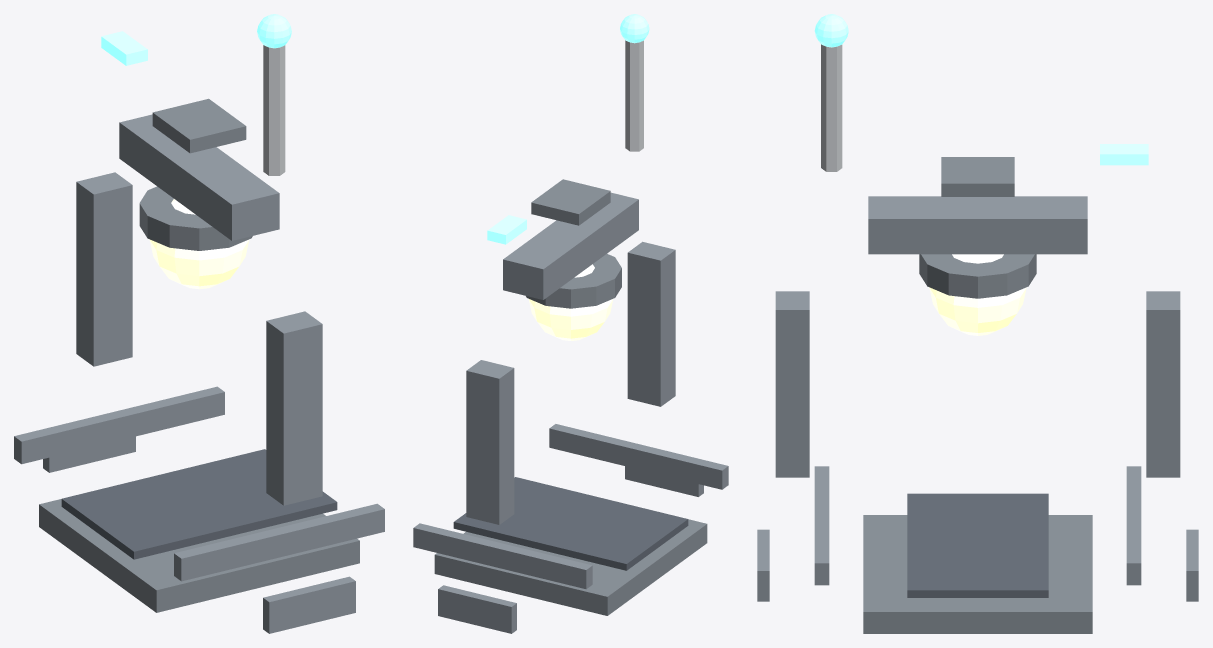
File: sorter.glb
The picture shows the model from 3 angles, left to right: view 1: azimuth 30°, elevation 25°; view 2: azimuth 150°, elevation 25°; view 3: azimuth 270°, elevation 25°; orthographic projection. The views are drawn at different scales.
Visible parts, largest first — view 1: lane, base, post_r, post_l, beam, rail_l, rail_r, skirt_r, eye_rim, beam_cap, eye, antenna (+3 smaller); view 2: lane, base, post_l, post_r, beam, rail_r, rail_l, skirt_l, eye_rim, beam_cap, eye, antenna (+3 smaller); view 3: base, lane, beam, post_l, post_r, eye_rim, eye, beam_cap, antenna, rail_l, rail_r, status (+3 smaller).
Boxes of the visible parts, bbox=[...] form: lane: bbox=[61, 449, 337, 559]; base: bbox=[39, 499, 359, 612]; post_r: bbox=[266, 311, 322, 505]; post_l: bbox=[76, 172, 132, 366]; beam: bbox=[119, 114, 279, 240]; rail_l: bbox=[14, 386, 224, 464]; rail_r: bbox=[174, 503, 384, 581]; skirt_r: bbox=[263, 576, 355, 633]; eye_rim: bbox=[139, 186, 252, 250]; beam_cap: bbox=[152, 98, 246, 153]; eye: bbox=[149, 199, 249, 289]; antenna: bbox=[263, 45, 285, 175]; lane: bbox=[453, 477, 688, 570]; base: bbox=[434, 519, 707, 615]; post_l: bbox=[466, 360, 514, 524]; post_r: bbox=[627, 241, 675, 406]; beam: bbox=[503, 192, 638, 299]; rail_r: bbox=[549, 424, 728, 489]; rail_l: bbox=[413, 523, 592, 589]; skirt_l: bbox=[438, 585, 516, 633]; eye_rim: bbox=[526, 254, 621, 308]; beam_cap: bbox=[531, 179, 610, 225]; eye: bbox=[528, 264, 613, 340]; antenna: bbox=[625, 40, 643, 151]; base: bbox=[863, 515, 1092, 633]; lane: bbox=[907, 493, 1048, 597]; beam: bbox=[868, 196, 1087, 254]; post_l: bbox=[1146, 291, 1180, 477]; post_r: bbox=[775, 291, 809, 477]; eye_rim: bbox=[919, 254, 1036, 298]; eye: bbox=[929, 254, 1026, 335]; beam_cap: bbox=[941, 157, 1014, 196]; antenna: bbox=[821, 44, 842, 171]; rail_l: bbox=[1126, 466, 1141, 585]; rail_r: bbox=[814, 466, 829, 585]; status: bbox=[1100, 144, 1148, 165].
Size of the model in its own units: 0.47 by 1.29 by 0.905.
